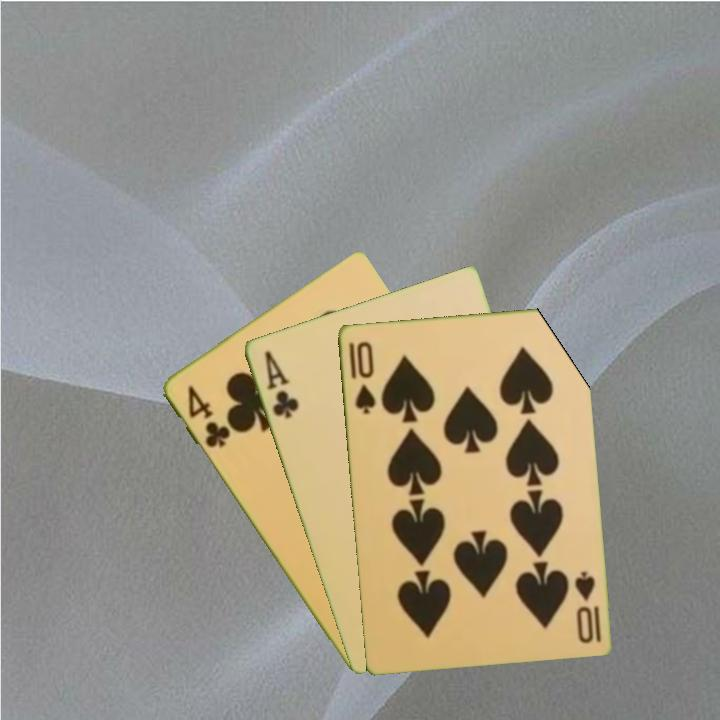10s: (345, 337, 378, 416), (571, 567, 603, 646)
4c: (183, 381, 233, 451)
Ac: (260, 346, 301, 421)
